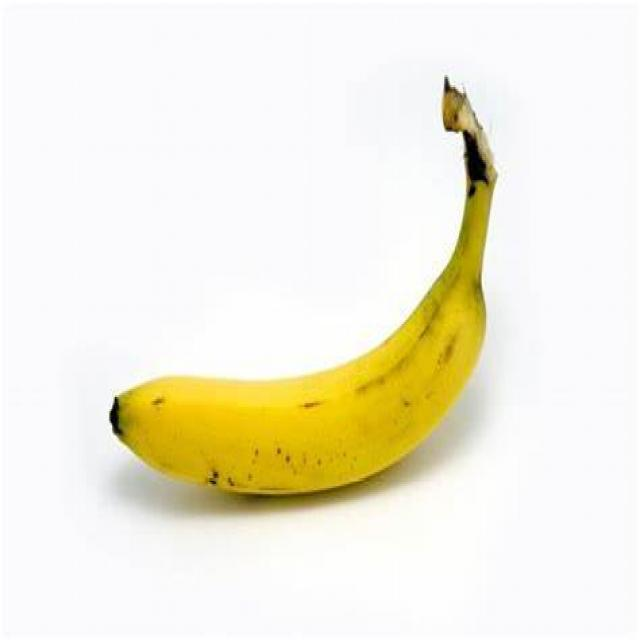Banana: (101, 76, 499, 505)
